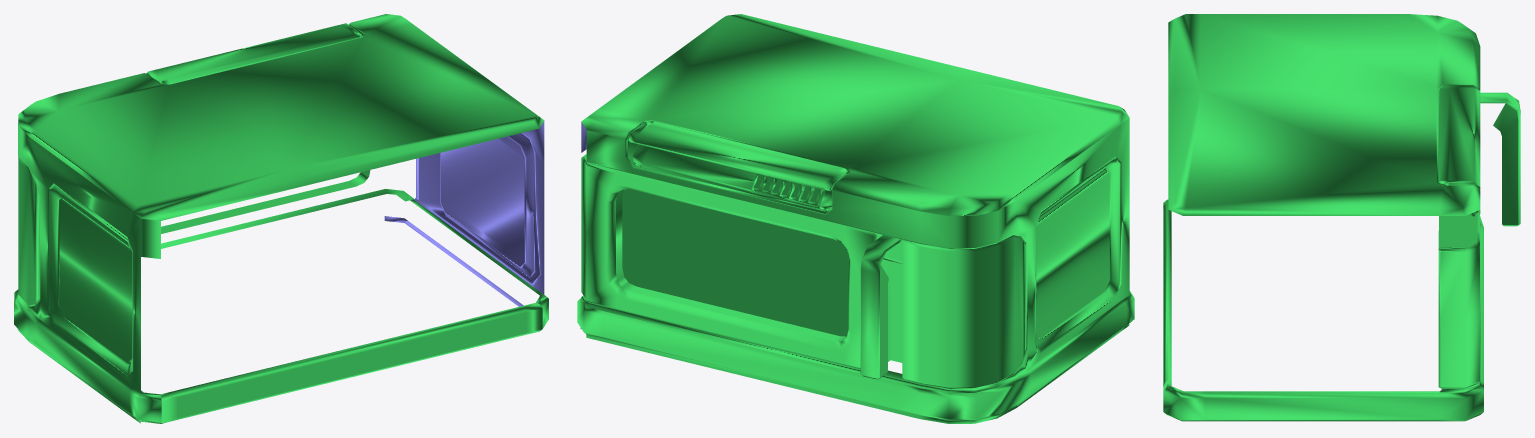
File: uee_lawless_prop_microwave_base_01.glb
3 renders of one model, left to right at view 1: azimuth 30°, elevation 25°; view 2: azimuth 150°, elevation 25°; view 3: azimuth 270°, elevation 25°, orthographic.
Size of the model in its own units: 1.07 by 0.5237 by 0.7944.
